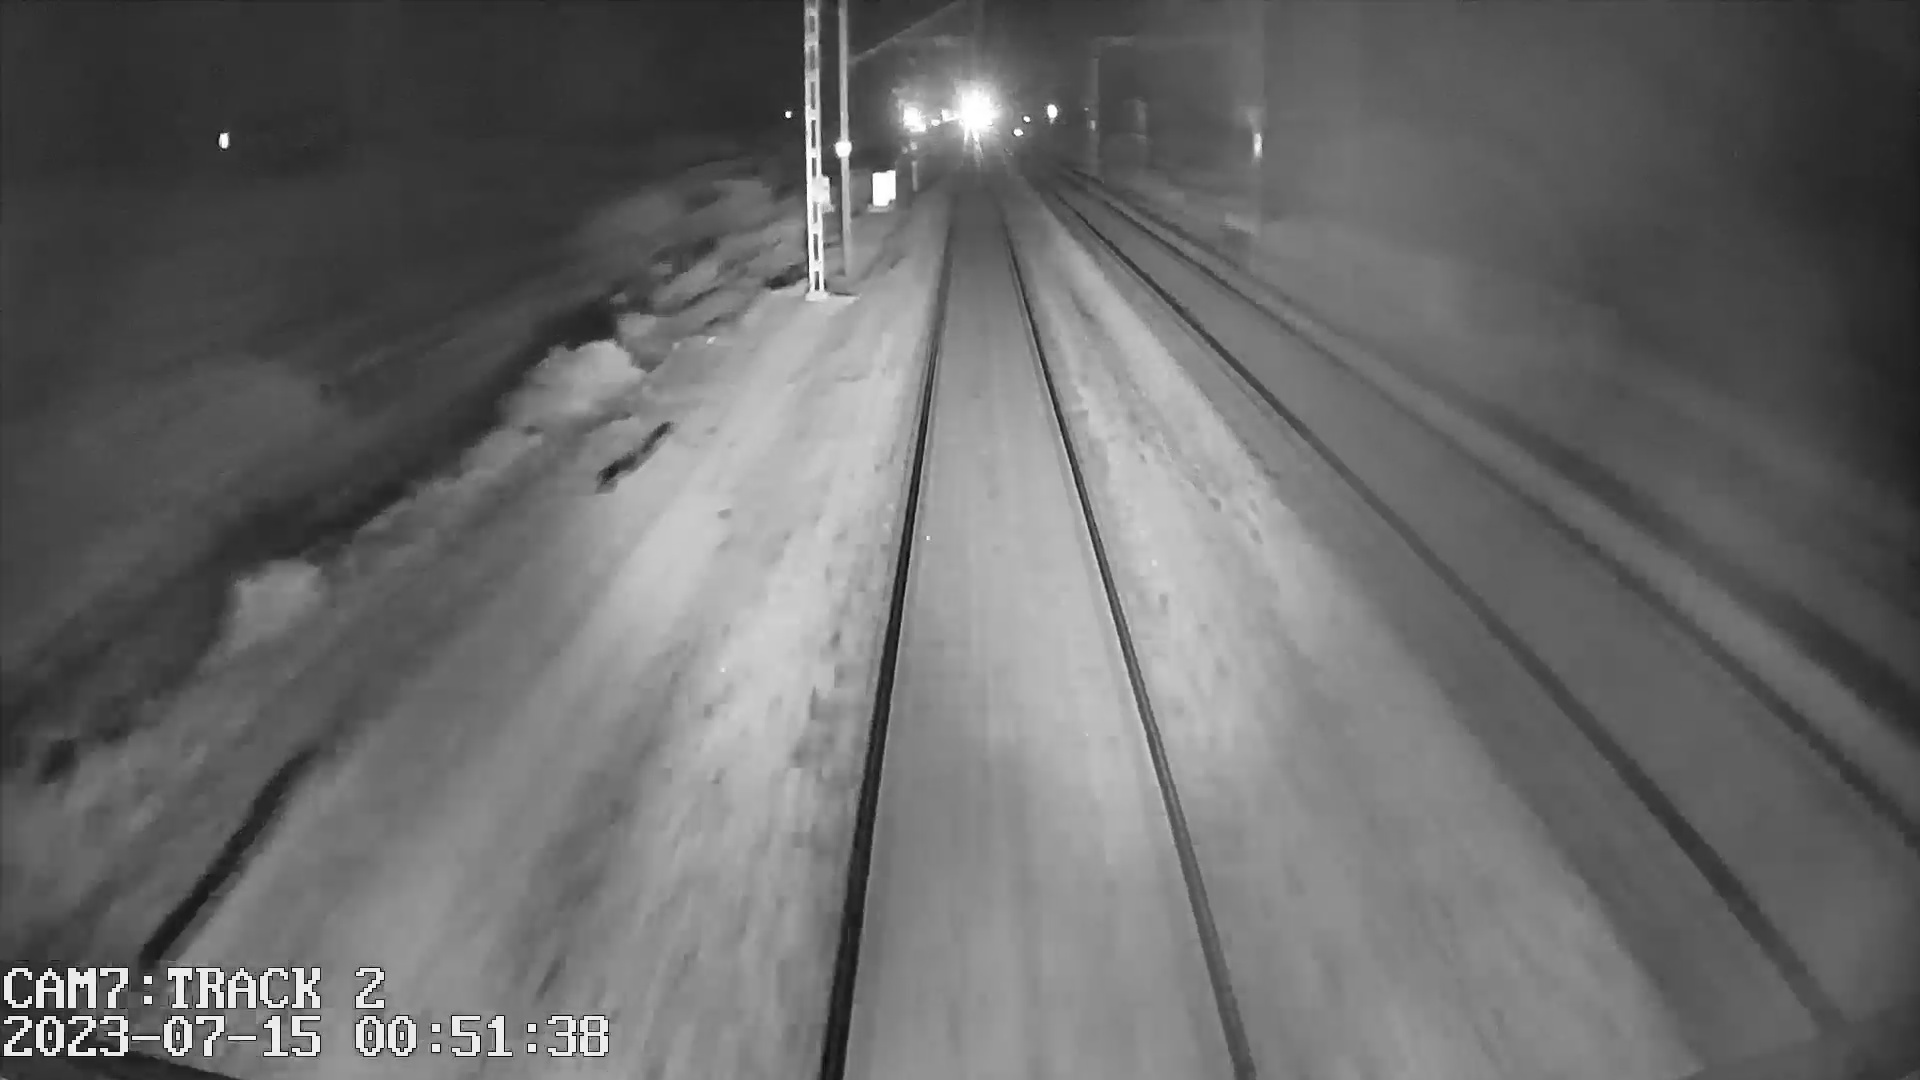track1: (837, 201, 1246, 1064)
track2: (1066, 196, 1907, 971)
